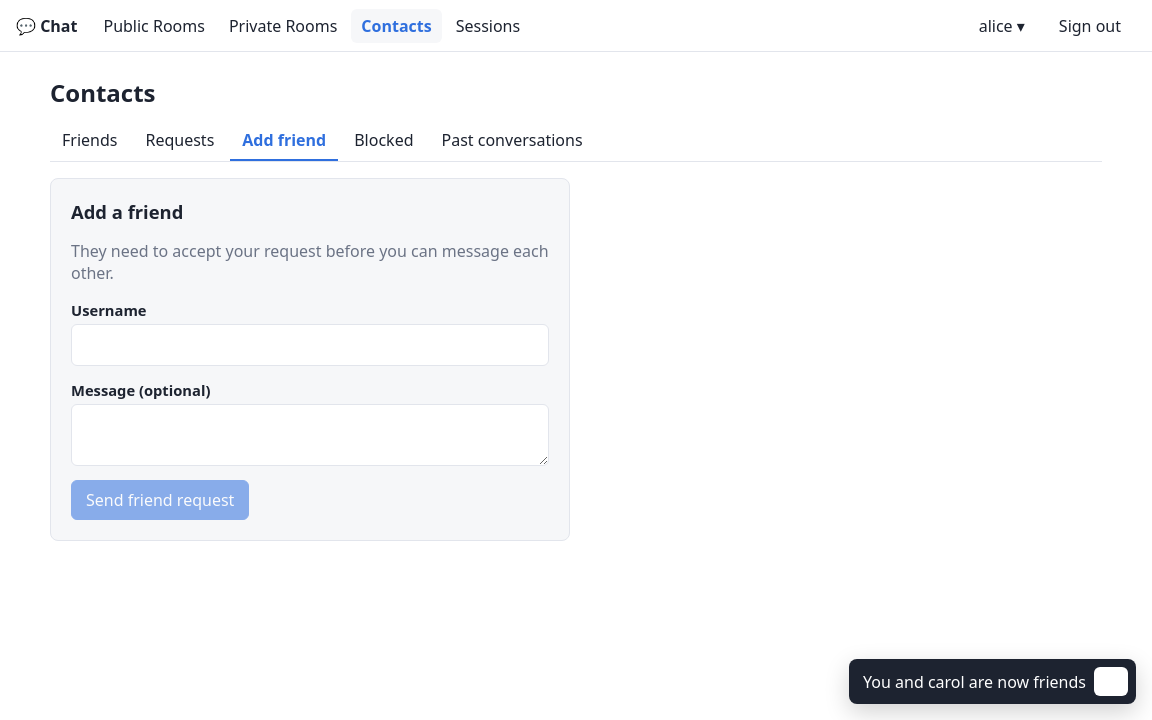
Test case: contacts page › sends a friend request with a message and shows errors
The width and height of the screenshot is (1152, 720).
Type "dave" into the field labelled "Username" at (310, 345), box [71,324,549,366]
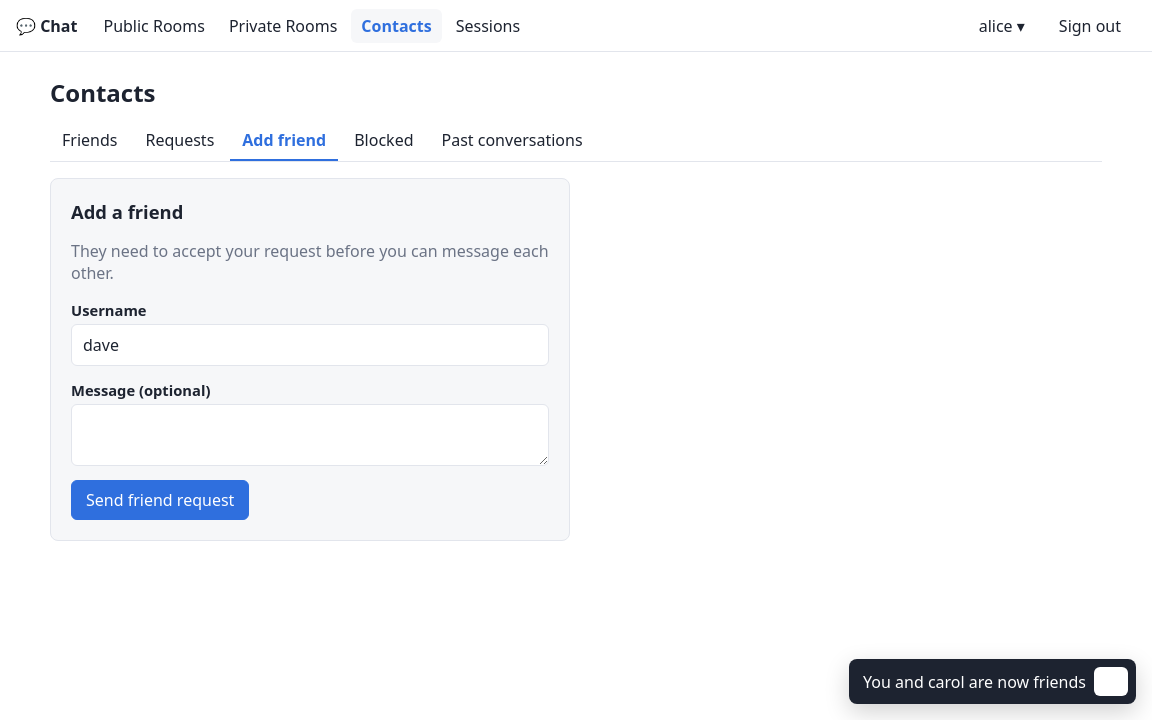
Type "hey" into the text box labelled "Message (optional)" at (310, 435), box [71,404,549,466]
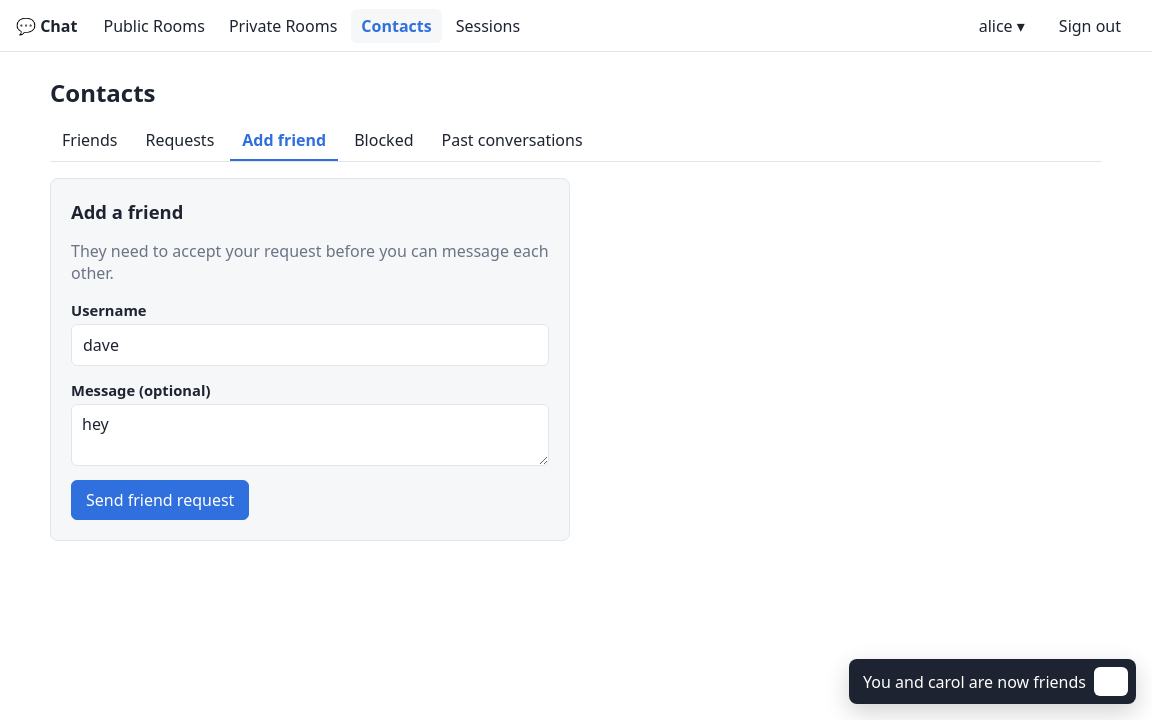
Click the button "Send friend request" at (160, 500), box [71,480,249,520]
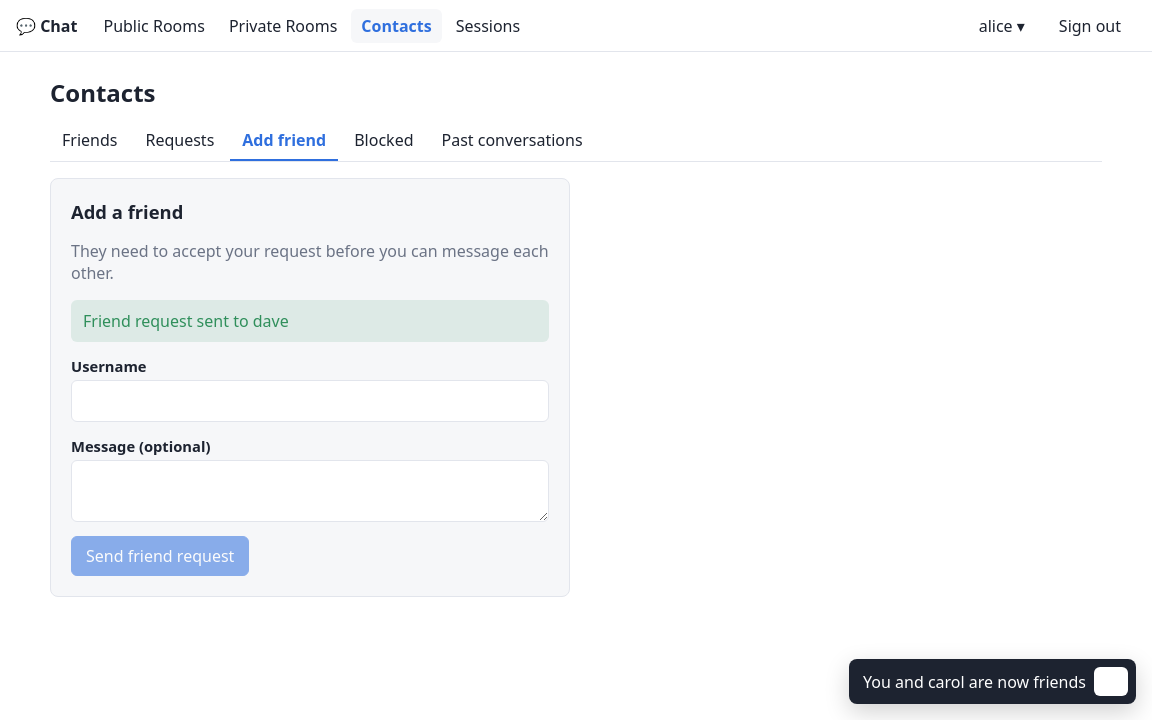
expect the text "Friend request sent to dave" is shown: met, box [71,300,549,342]
Type "dave" into the field labelled "Username" at (310, 401), box [71,380,549,422]
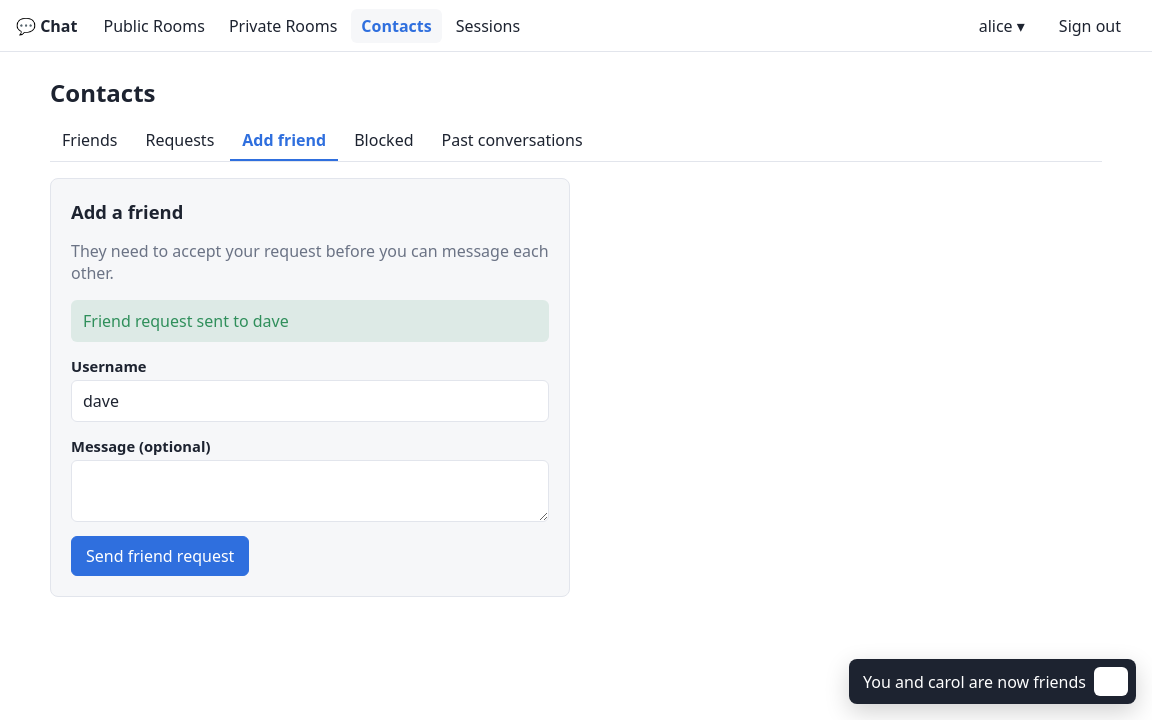
Click the button "Send friend request" at (160, 556), box [71,536,249,576]
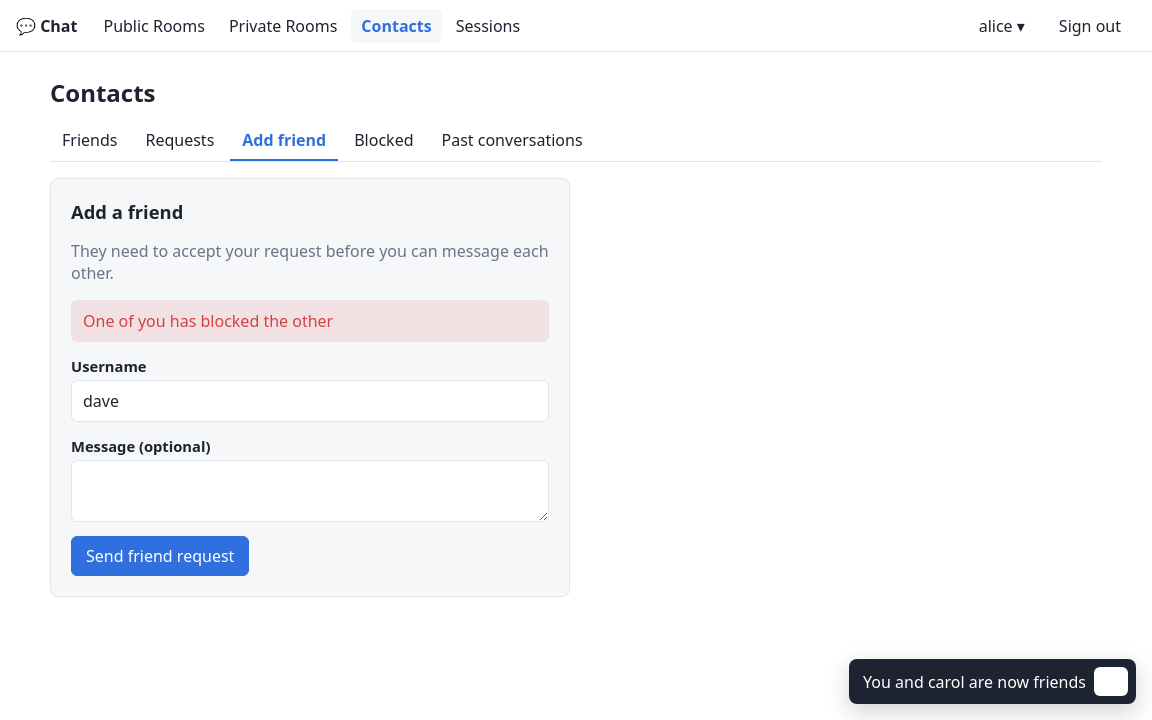
expect the message "One of you has blocked the other" is shown: met, box [71,300,549,342]
